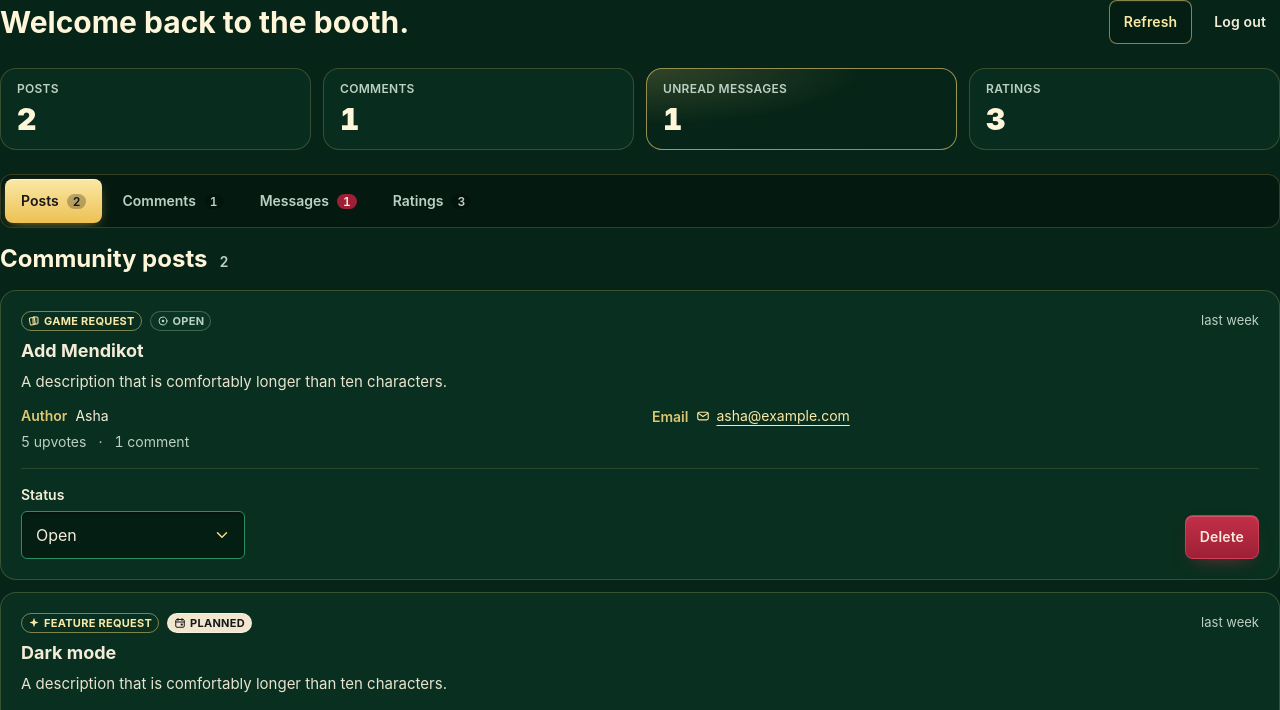
Test: AdminApp — comments, messages and ratings › deletes a comment
Check: the list item with test id "admin-post-1" is shown, box 0,290 -> 1279,580
Step 1. Click the tab with test id "admin-tab-comments" → (173, 201), box 106,179 -> 240,223
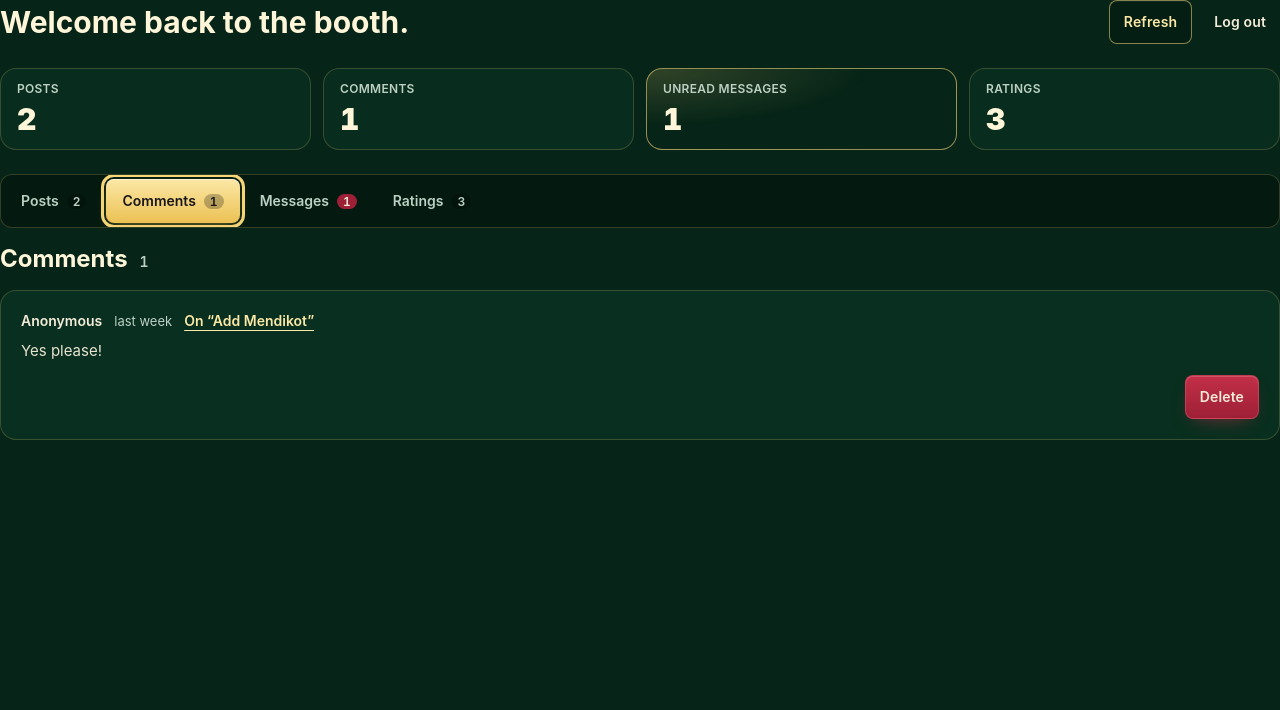
Step 2. Click the button with aria-label "Delete comment by Anonymous" → (1222, 397), box 1185,375 -> 1259,419
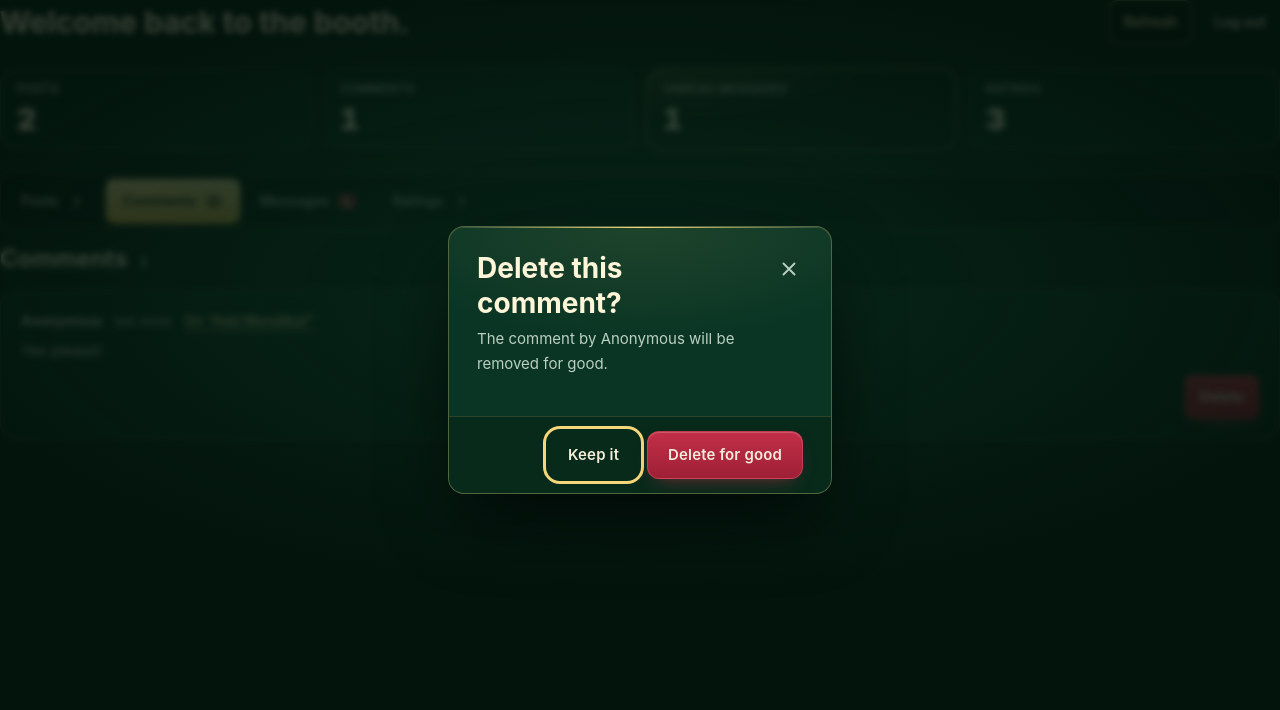
Step 3. Click the button with test id "admin-confirm-delete" → (725, 455), box 647,431 -> 803,479
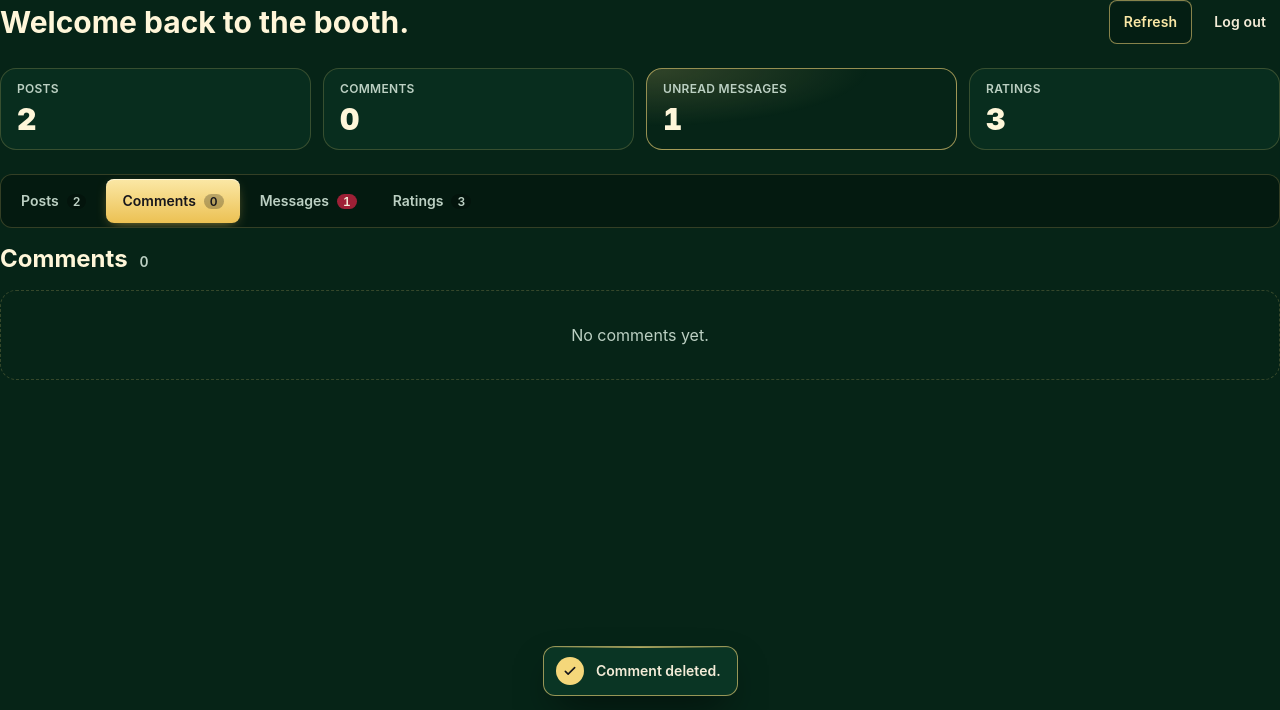
Check: the list item with test id "admin-comment-11" is gone
